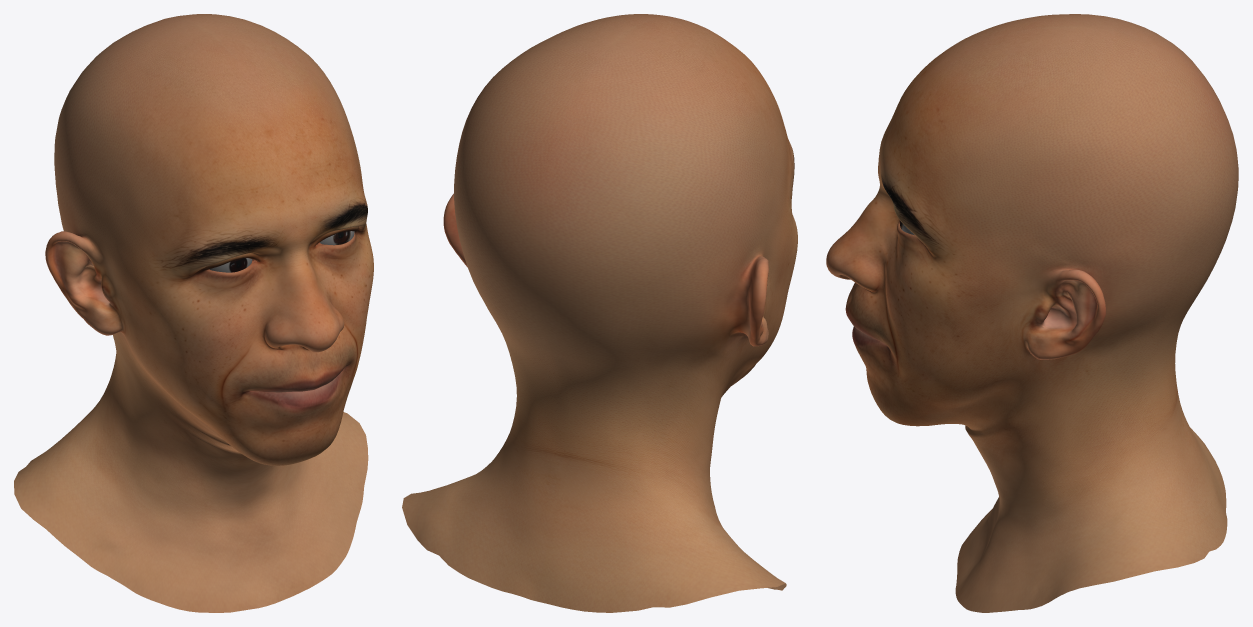
The picture shows the model from 3 angles, left to right: view 1: azimuth 30°, elevation 25°; view 2: azimuth 150°, elevation 25°; view 3: azimuth 270°, elevation 25°; orthographic projection. The views are drawn at different scales.
Visible parts, largest first — view 1: Registered head; view 2: Registered head; view 3: Registered head.
Boxes of the visible parts, x1,y1,x2,y2 form: Registered head: [14, 14, 373, 612]; Registered head: [402, 14, 797, 612]; Registered head: [826, 14, 1238, 612].
Bounding box in the file's own units: 1.26 × 1.9 × 1.28.
Materials: 3 (3 with a texture image).
